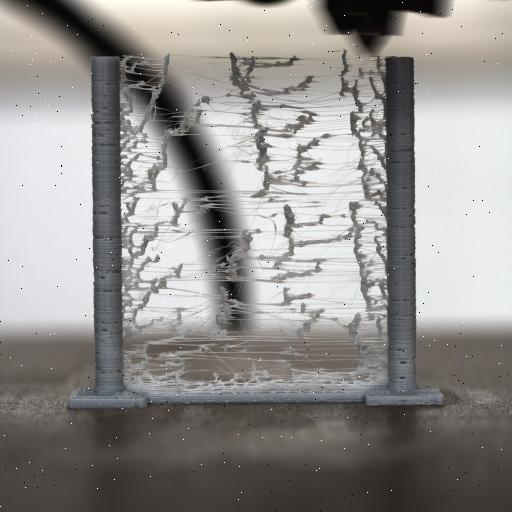stringing: (120, 51, 390, 387)
